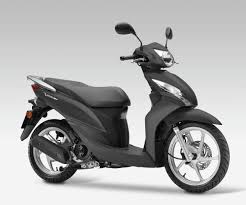motorcycle: (16, 19, 231, 195)
